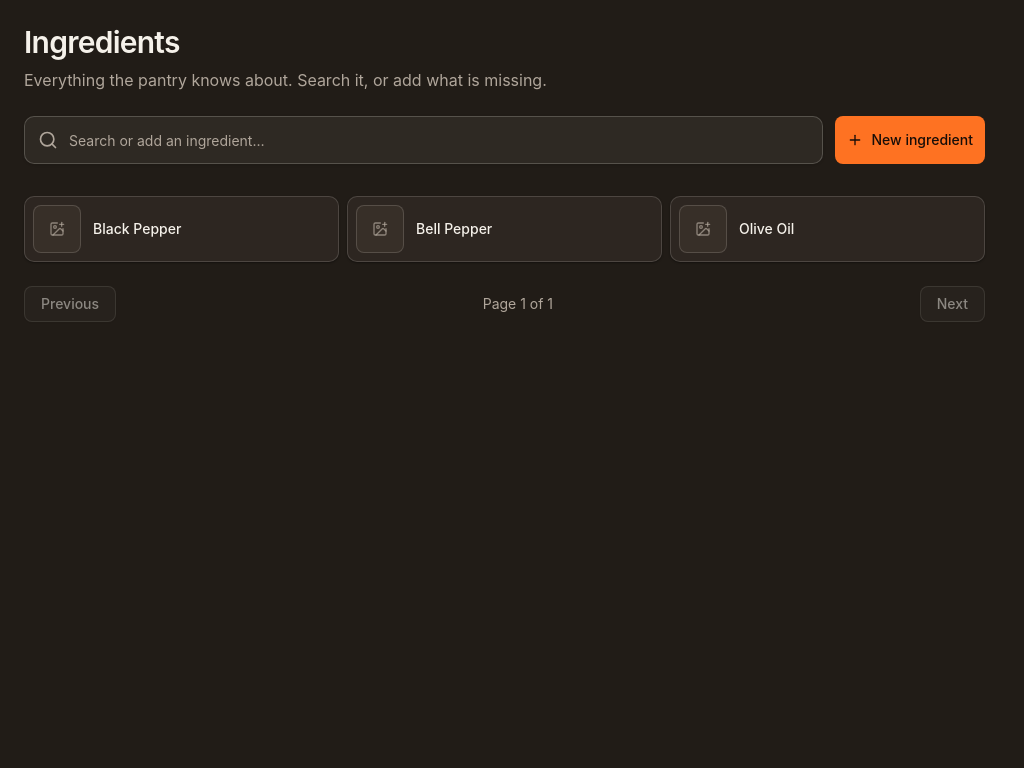
Test case: IngredientListPage › renames an ingredient from its tile
The image size is (1024, 768).
Click the button "olive oil".
click(703, 229)  # box [670,196,985,262]
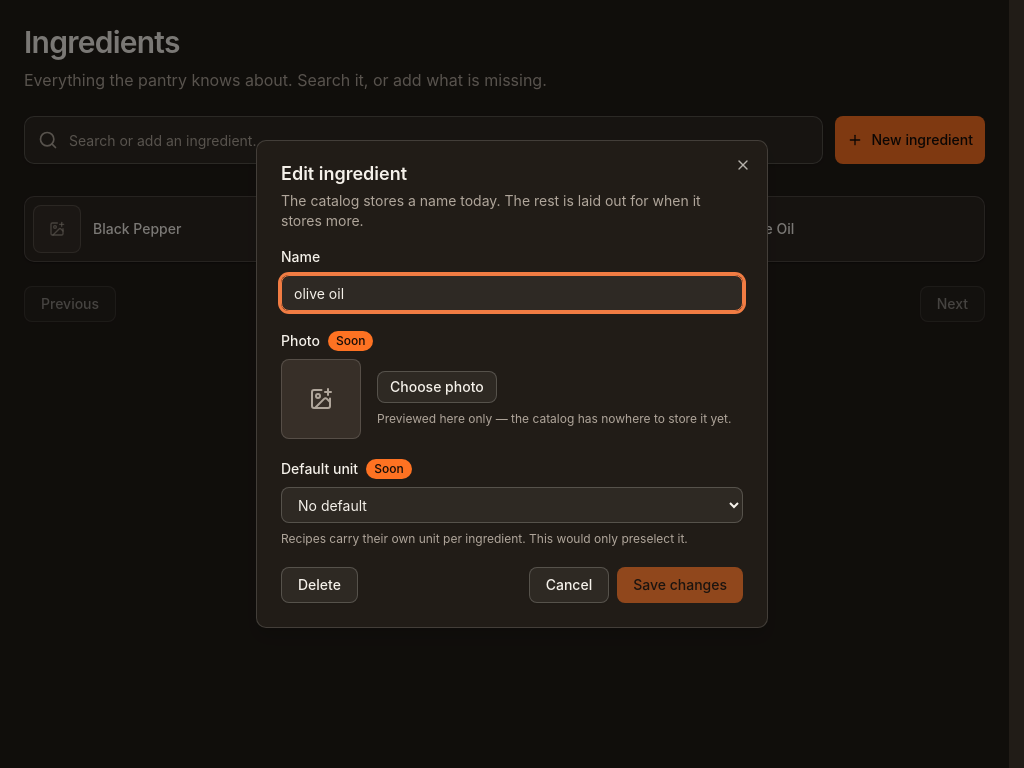
expect the dialog is shown: met, box [256,140,768,628]
Replace the text in the field labelled "Name" with "Extra Virgin Olive Oil" at (512, 293), box [281,275,743,311]
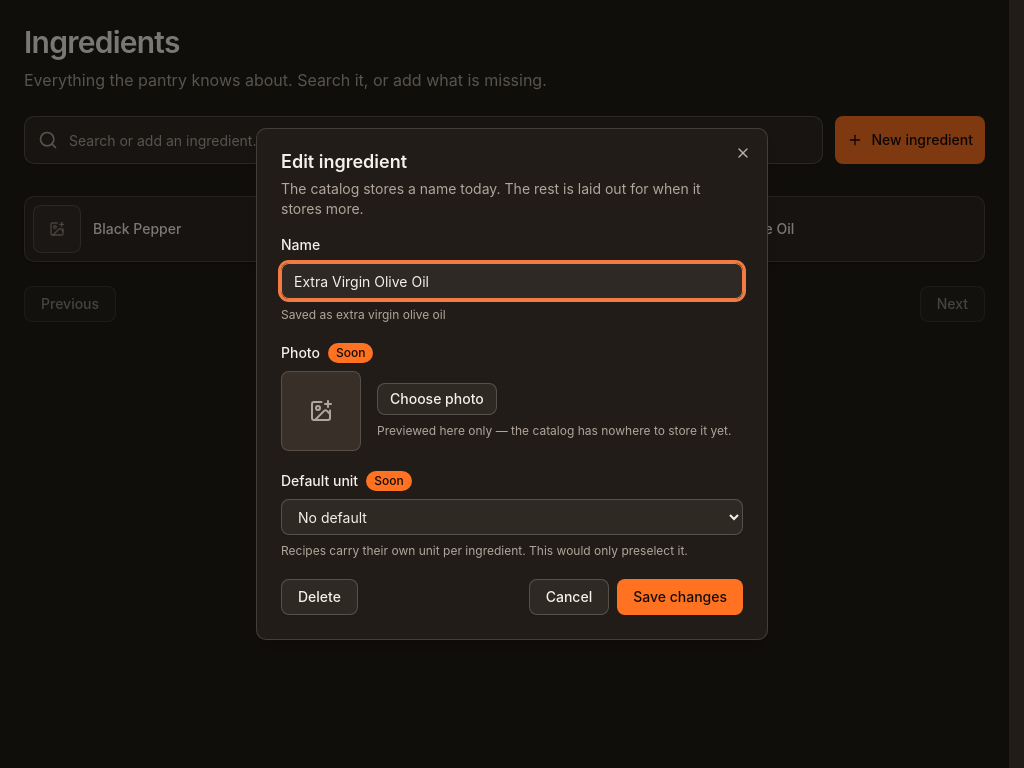
Click the button "Save changes".
click(680, 597)  # box [617,579,743,615]
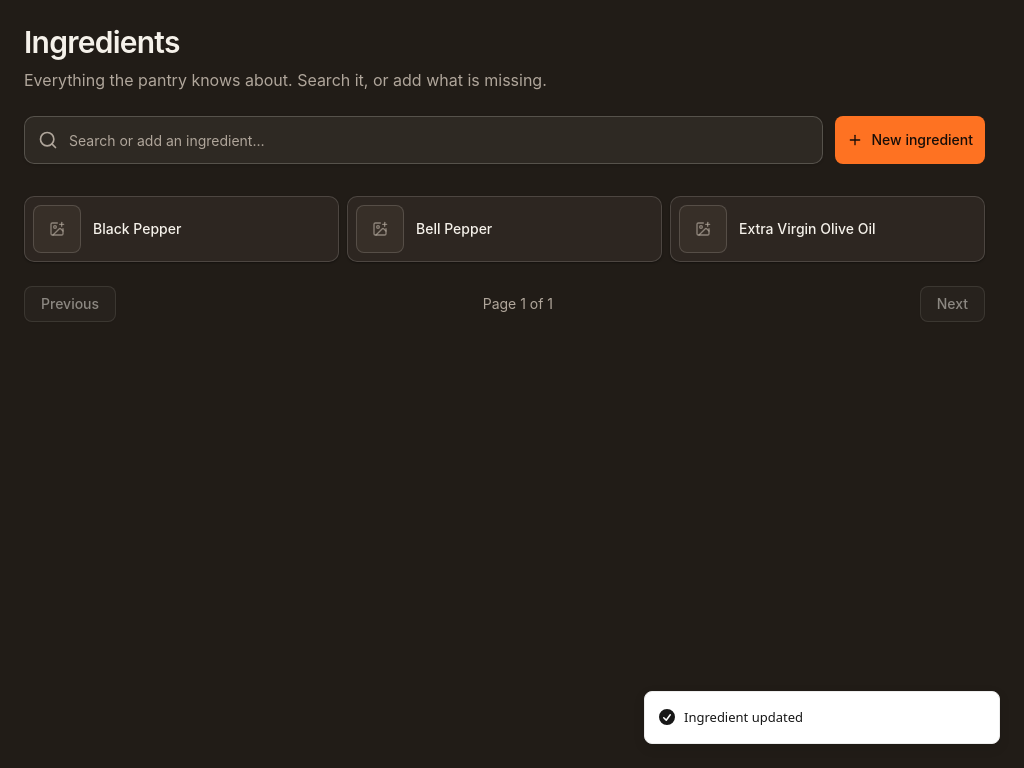
expect the text "extra virgin olive oil" is shown: met, box [739,220,876,237]
